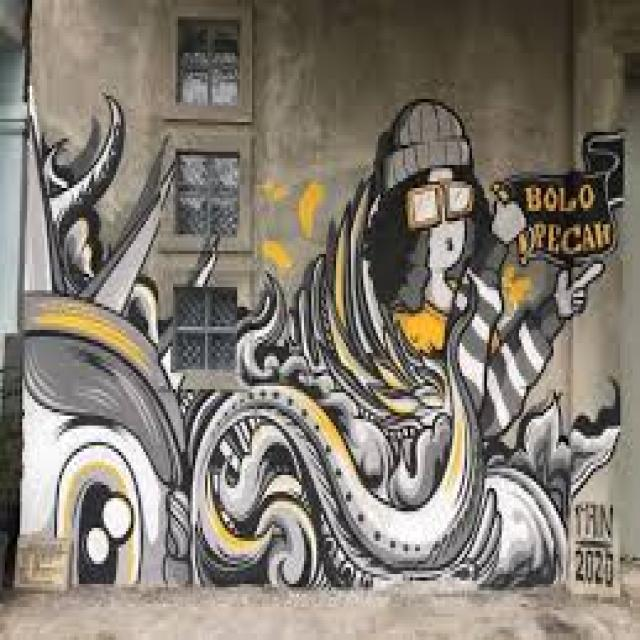-: (26, 93, 624, 594)
